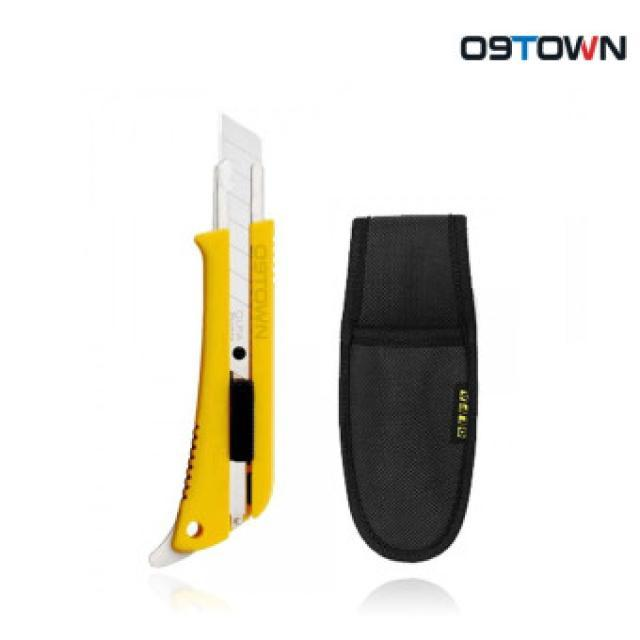cutter: (157, 107, 300, 555)
